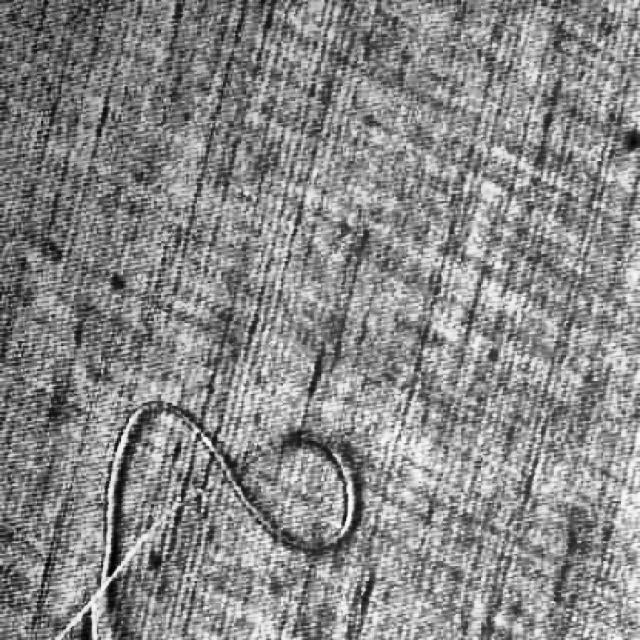objects: (42, 385, 370, 640)
